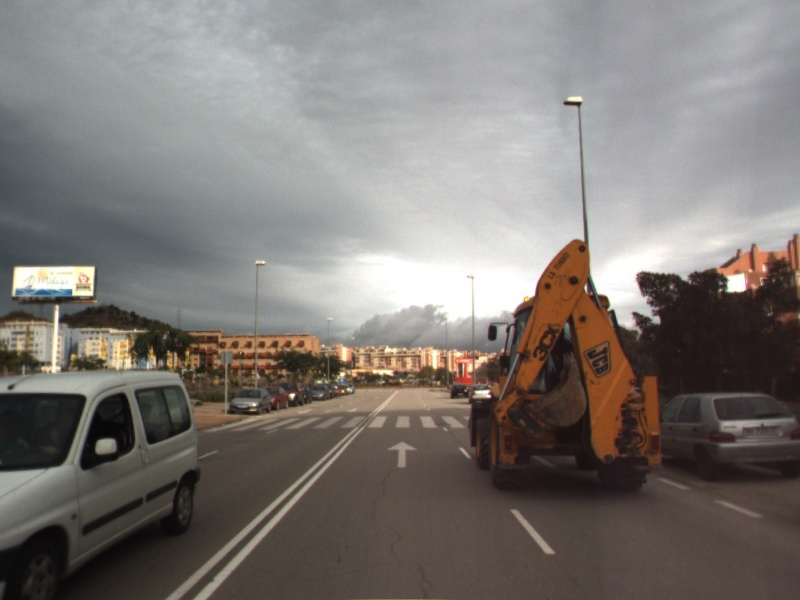STRAIGHT: (385, 439, 419, 470)
